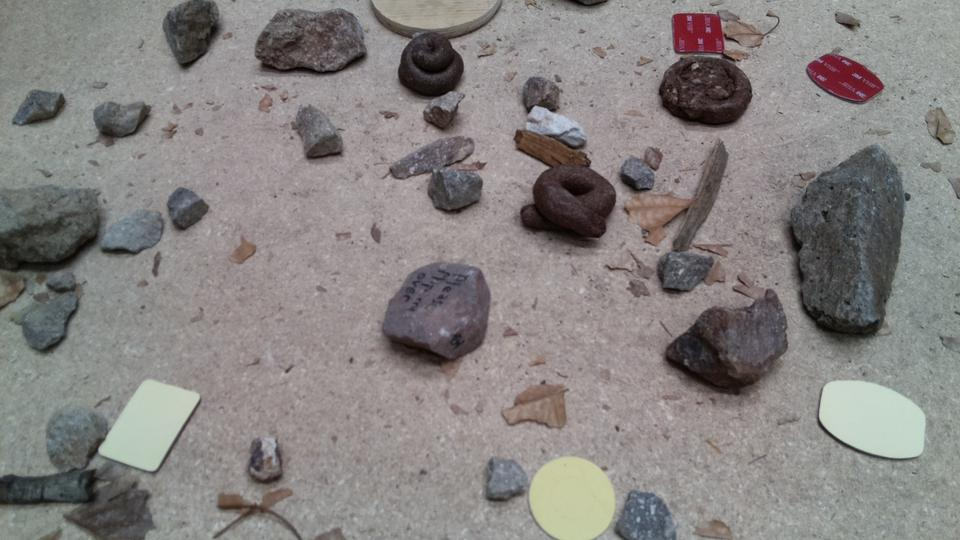poop: (518, 161, 619, 242), (657, 53, 755, 126), (396, 30, 467, 98)
